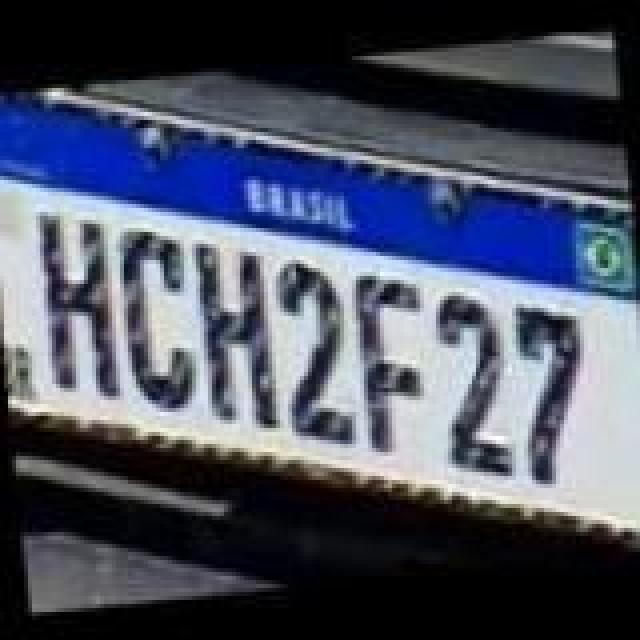2: (268, 250, 360, 454), (428, 280, 520, 484)
7: (496, 290, 596, 494)
C: (114, 214, 206, 414)
F: (348, 266, 440, 474)
H: (30, 198, 130, 410), (184, 236, 280, 444)
